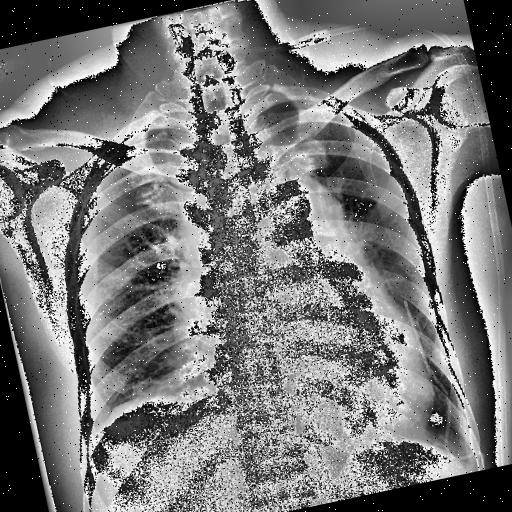0- Aortic enlargement: (225, 162, 369, 330), (246, 176, 320, 261), (238, 166, 318, 242)
1- Atelectasis: (286, 146, 401, 330)
10- Pleural effusion: (72, 406, 113, 454)
11- Pleural thickening: (72, 406, 113, 454)
13- Pulmonary fibrosis: (286, 146, 401, 330)
3- Cardiomegaly: (171, 289, 439, 480), (185, 295, 448, 478), (196, 290, 438, 470)
4- Consolidation: (286, 146, 401, 330)
7- Lung Opacity: (142, 298, 221, 398)
9- Other lesion: (296, 166, 392, 308), (142, 298, 221, 398)
